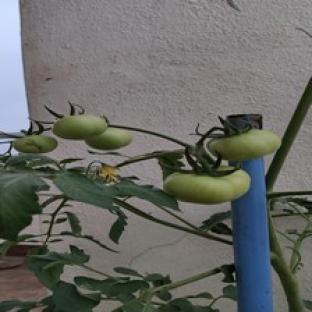Tomato: (163, 170, 250, 204), (208, 130, 281, 161), (53, 115, 107, 139), (85, 127, 132, 150), (13, 136, 58, 153)
